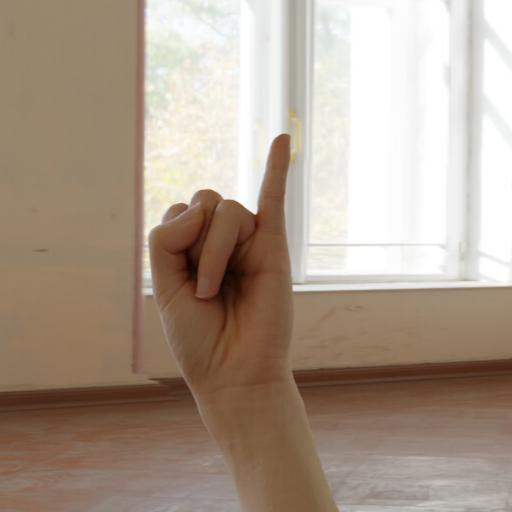I: (120, 107, 378, 427)
